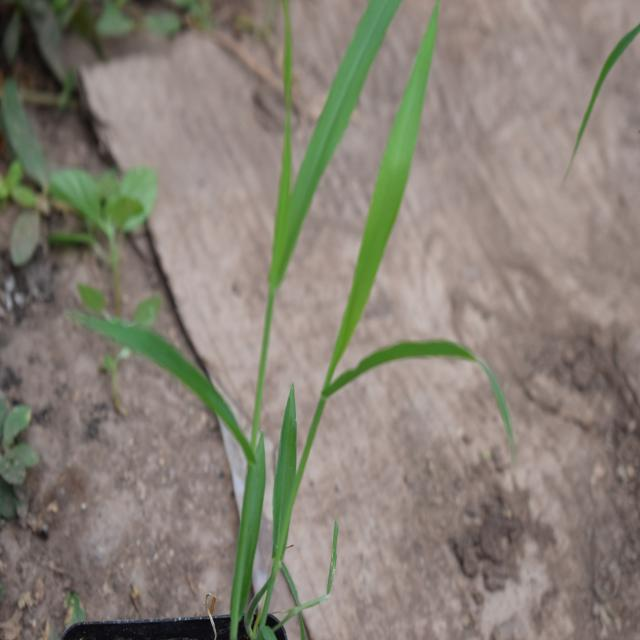crabgrass: (186, 0, 520, 531)
